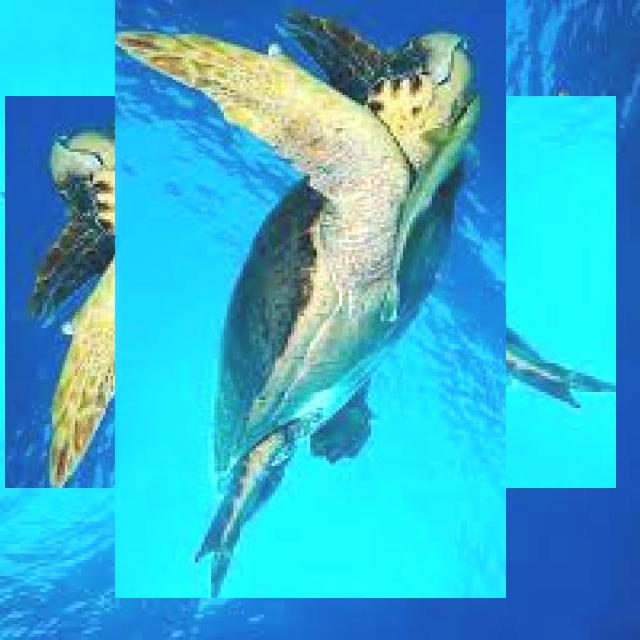Sea turtle: (60, 42, 561, 543)
